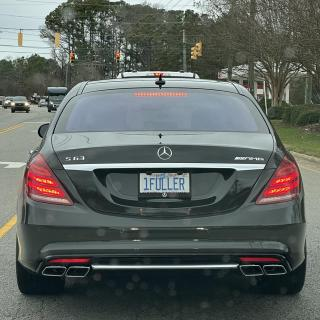license: (138, 170, 193, 200)
